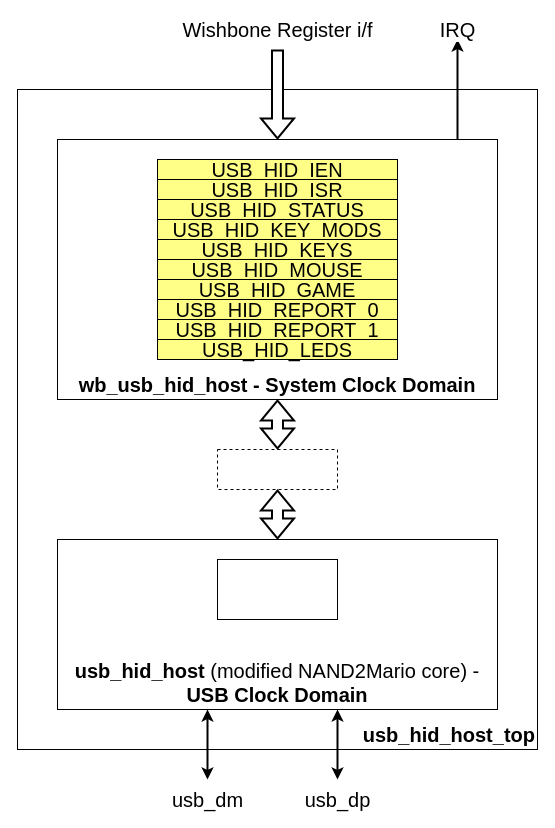
The diagram is 555 pixels wide and 828 high, and some of its shapes have lost their labels. The shapes that lost their labels are listed below. From the top down, each one's centre as x and y in pixels, then its label:
At (277,469): "CDC logic".
At (277,589): "UKP Processor".
